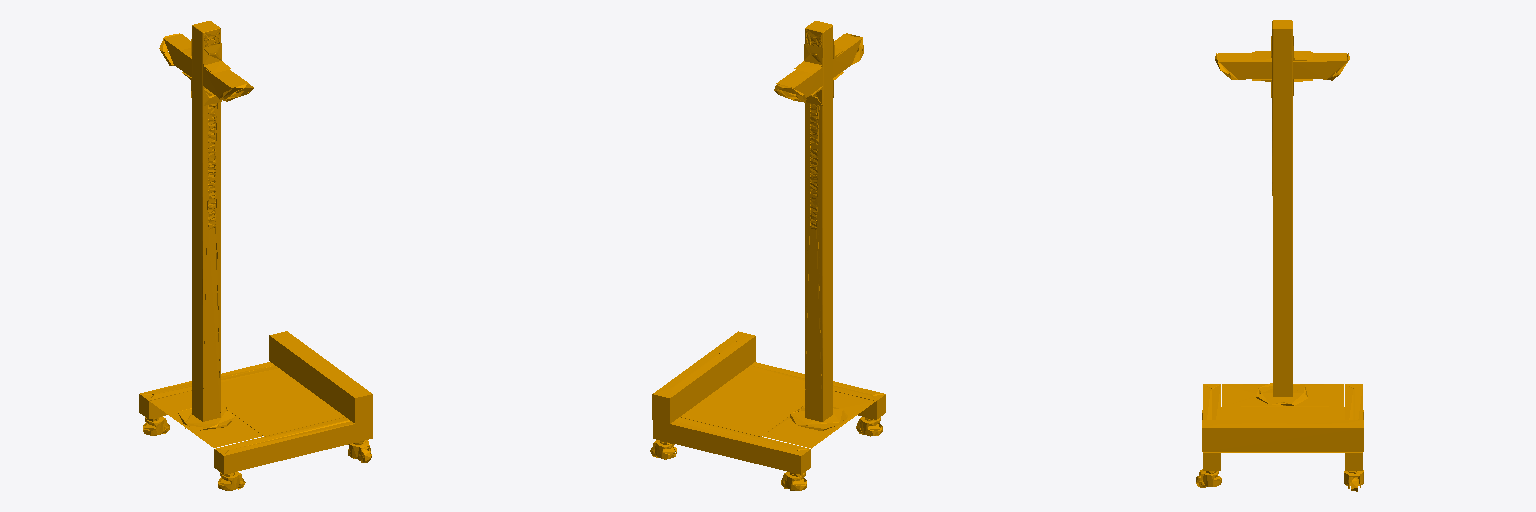
URDF robot description (stand):
<?xml version="1.0"?>
<robot name="stand">
  <link name="stand">
    <visual>
      <origin rpy="1.57 0 3.14159" xyz="0.0 0.0 0.0" />
      <geometry>
        <mesh filename="stand.obj" scale="0.1 0.1 0.1" />
      </geometry>
    </visual>
    <collision>
      <origin rpy="1.57 0 3.14159" xyz="0.0 0.0 0.0" />
      <geometry>
        <mesh filename="stand.obj" scale="0.1 0.1 0.1" />
      </geometry>
    </collision>
  </link>
</robot>

--- What the picture shows (computed from the rendered views, not written in the file) ---
The picture shows the robot from 3 angles, left to right: view 1: azimuth 30°, elevation 25°; view 2: azimuth 150°, elevation 25°; view 3: azimuth 270°, elevation 25°; orthographic projection.
Model stand with 1 links and 0 joints (none), rooted at stand, posed all joints at 0.
Visible links, largest first — view 1: stand; view 2: stand; view 3: stand.
Boxes of the visible links, <box> form: stand: <box>139,21,372,490</box>; stand: <box>650,21,885,490</box>; stand: <box>1196,20,1363,491</box>.
Size in the robot's own frame: 0.6344 by 0.6323 by 1.69 metres.
1 mesh visuals loaded from 1 distinct referenced files (1 OBJ).
